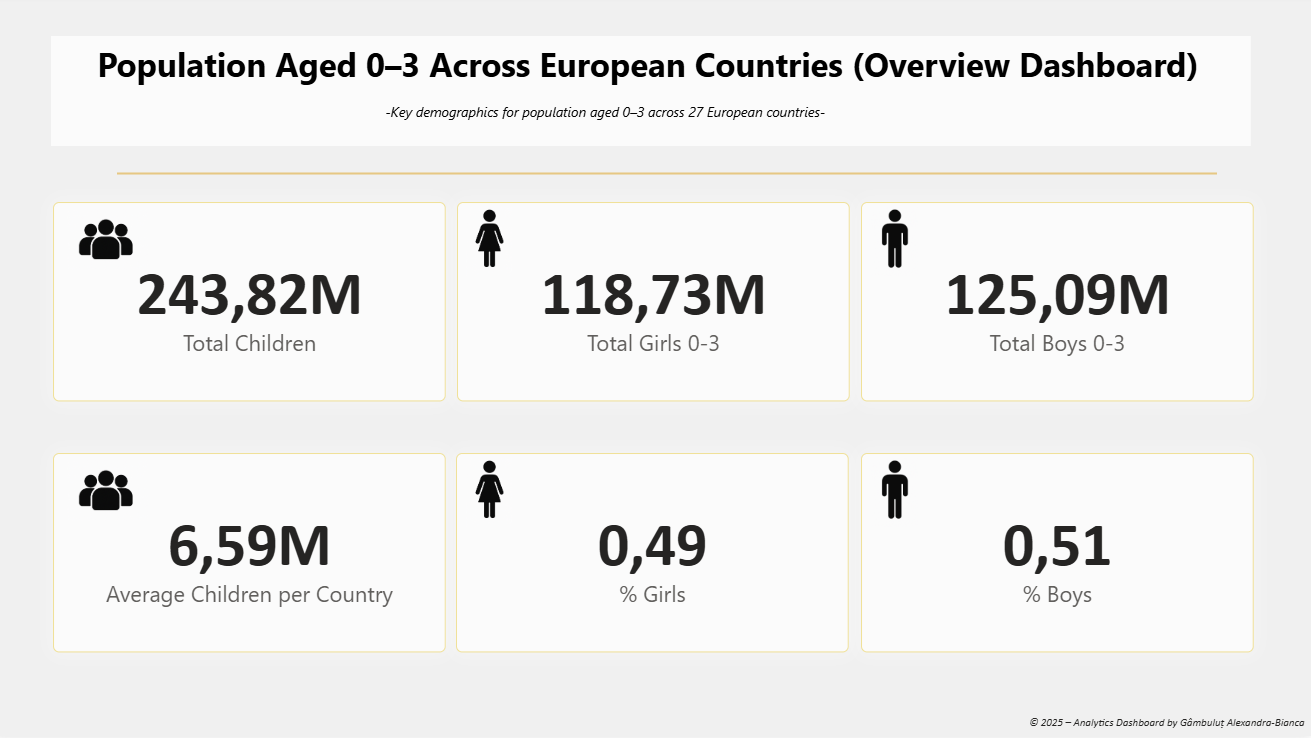

What the dashboard file says about the page in this screenshot:
{"tool":"powerbi","page":{"name":"Page 1","canvas":[1280,720],"ordinal":0},"visuals":[{"type":"textbox","box":[54.5,38.9,1167.2,107],"z":0},{"type":"card","fields":{"Values":["Dim Country.Total Children"]},"box":[56.4,200.4,382.2,193.6],"z":1000},{"type":"card","fields":{"Values":["Dim Country.Total Women 0-3"]},"box":[449.4,200.4,382.2,193.6],"z":2000},{"type":"card","fields":{"Values":["Dim Country.Total Men 0-3"]},"box":[842.3,200.4,382.2,193.6],"z":3000},{"type":"card","fields":{"Values":["Dim Country.Average Children per Country"]},"box":[56.4,444.5,382.2,193.6],"z":4000},{"type":"card","fields":{"Values":["Dim Country.% Girls"]},"box":[448.7,444.8,382.2,193.6],"z":5000},{"type":"card","fields":{"Values":["Dim Country.% Boys"]},"box":[842.3,444.5,382.2,193.6],"z":6000},{"type":"image","box":[448.4,200.4,64.2,76.8],"z":7000},{"type":"image","box":[448.4,444.5,64.2,76.8],"z":8000},{"type":"image","box":[788.8,444.5,171.2,76.8],"z":9000},{"type":"image","box":[788.8,200.4,171.2,76.8],"z":10000},{"type":"image","box":[21.4,202.3,177,69.1],"z":11000},{"type":"image","box":[21.4,446.4,177,69.1],"z":12000},{"type":"textbox","box":[1000.8,690.1,279.2,30.4],"z":13000},{"type":"shape","box":[118.7,152.7,1069.9,39.9],"z":14000}]}

Visuals, with their boxes in screenshot pixels (x1, y1, x2, y2), scaled from the page's 1280x720 canvas onto the 1311x738 screenshot:
textbox: (56,40,1251,150)
card - Dim Country.Total Children: (58,205,449,404)
card - Dim Country.Total Women 0-3: (460,205,852,404)
card - Dim Country.Total Men 0-3: (863,205,1254,404)
card - Dim Country.Average Children per Country: (58,456,449,654)
card - Dim Country.% Girls: (460,456,851,654)
card - Dim Country.% Boys: (863,456,1254,654)
image: (459,205,525,284)
image: (459,456,525,534)
image: (808,456,983,534)
image: (808,205,983,284)
image: (22,207,203,278)
image: (22,458,203,528)
textbox: (1025,707,1310,737)
shape: (122,157,1217,197)
